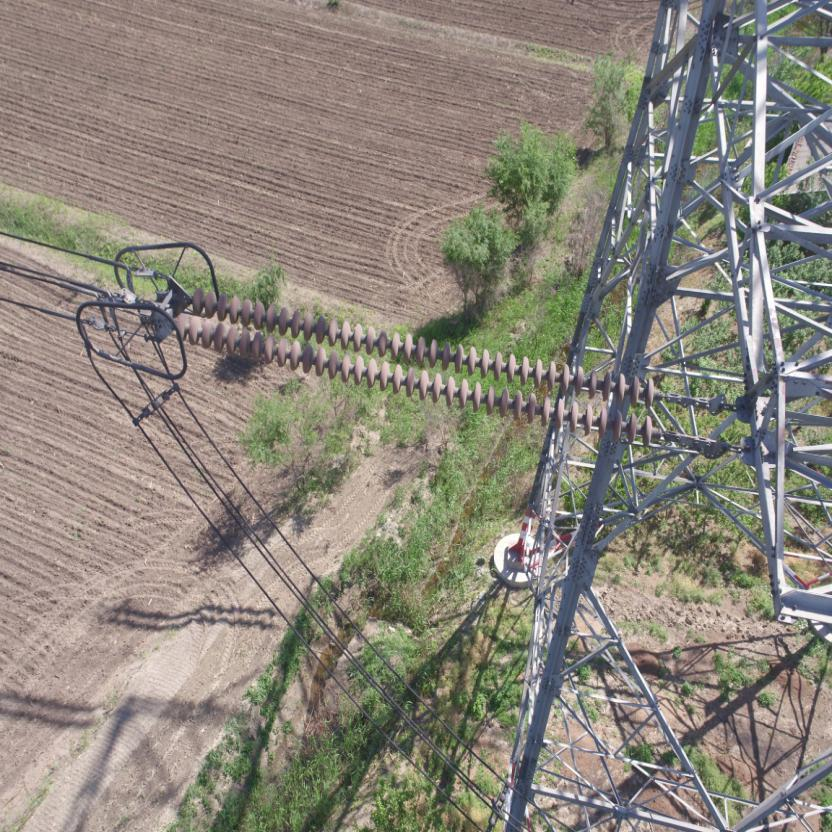insulator: (161, 283, 700, 448)
